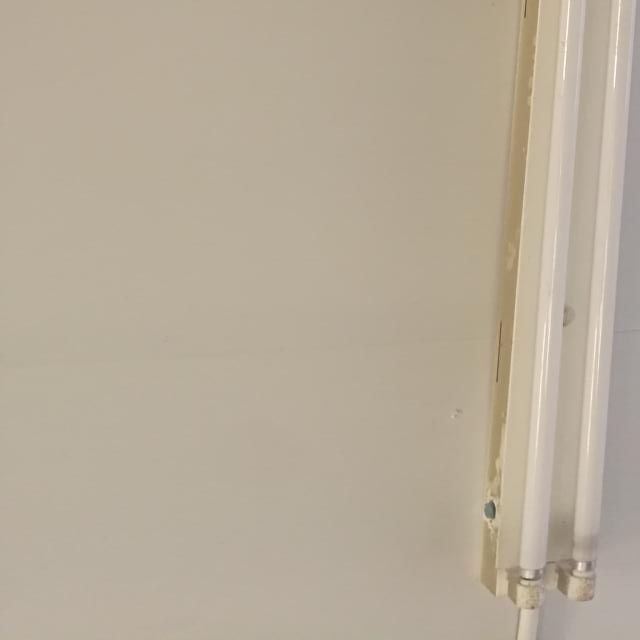fluorescent tube: (443, 0, 640, 634)
